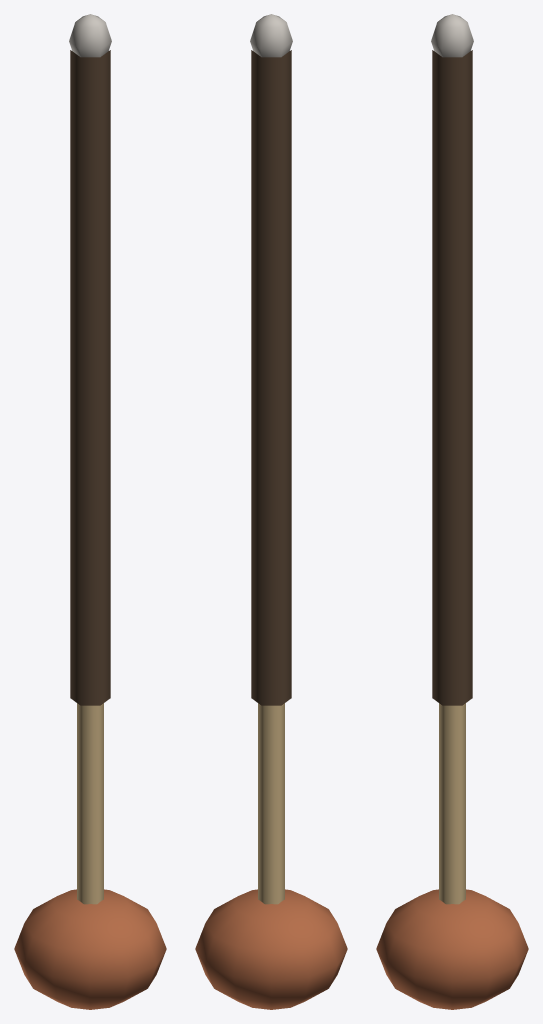
Rendered from agarbatti.glb.
The picture shows the model from 3 angles, left to right: view 1: azimuth 30°, elevation 25°; view 2: azimuth 150°, elevation 25°; view 3: azimuth 270°, elevation 25°; orthographic projection.
Visible parts, largest first — view 1: agarbatti; view 2: agarbatti; view 3: agarbatti.
Part boxes in pixels (x1,y1,x2,y2): agarbatti: [14, 14, 166, 1009]; agarbatti: [195, 14, 347, 1009]; agarbatti: [376, 14, 528, 1009].
Bounding box in the file's own units: 0.032 × 0.2283 × 0.032.
